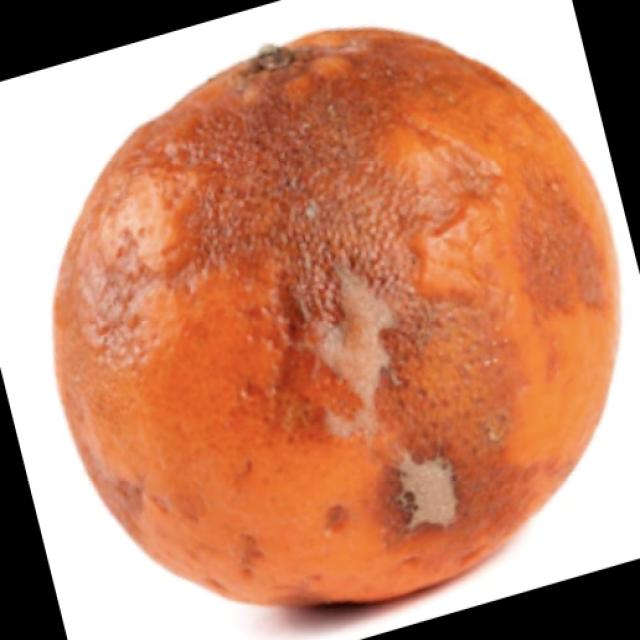sedikit_busuk: (57, 26, 621, 611)
